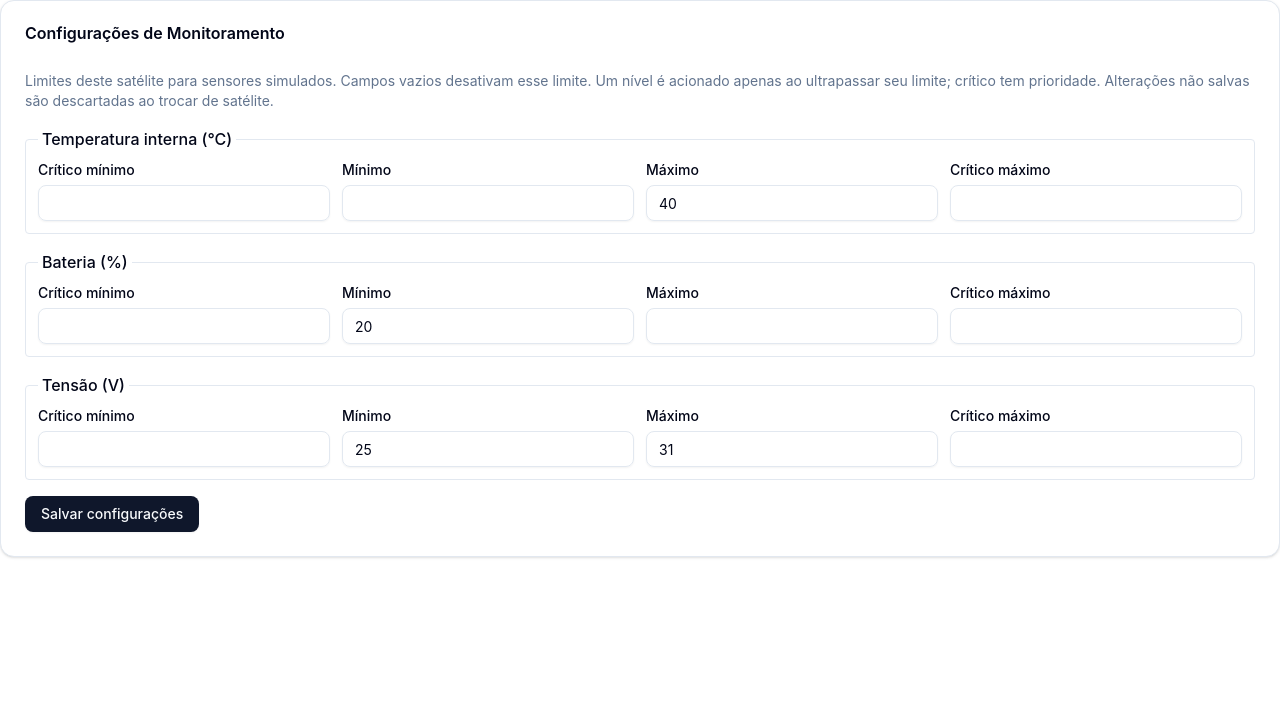
Scenario: US11 validation › reports a failed save and does not mark edited values as persisted
The image size is (1280, 720).
Replace the text in the 1st number field labelled "Máximo" with "75": (792, 203) [646, 185, 938, 221]
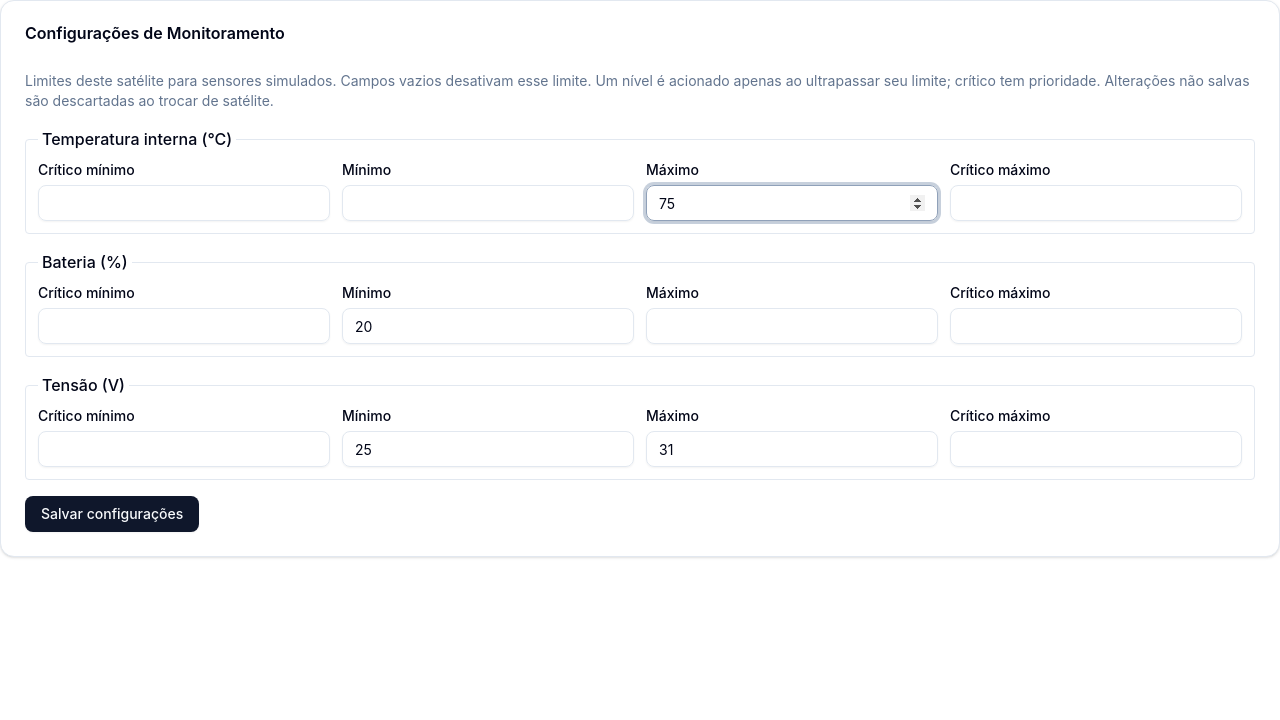
Click the button "Salvar configurações": (112, 514) [25, 496, 199, 532]
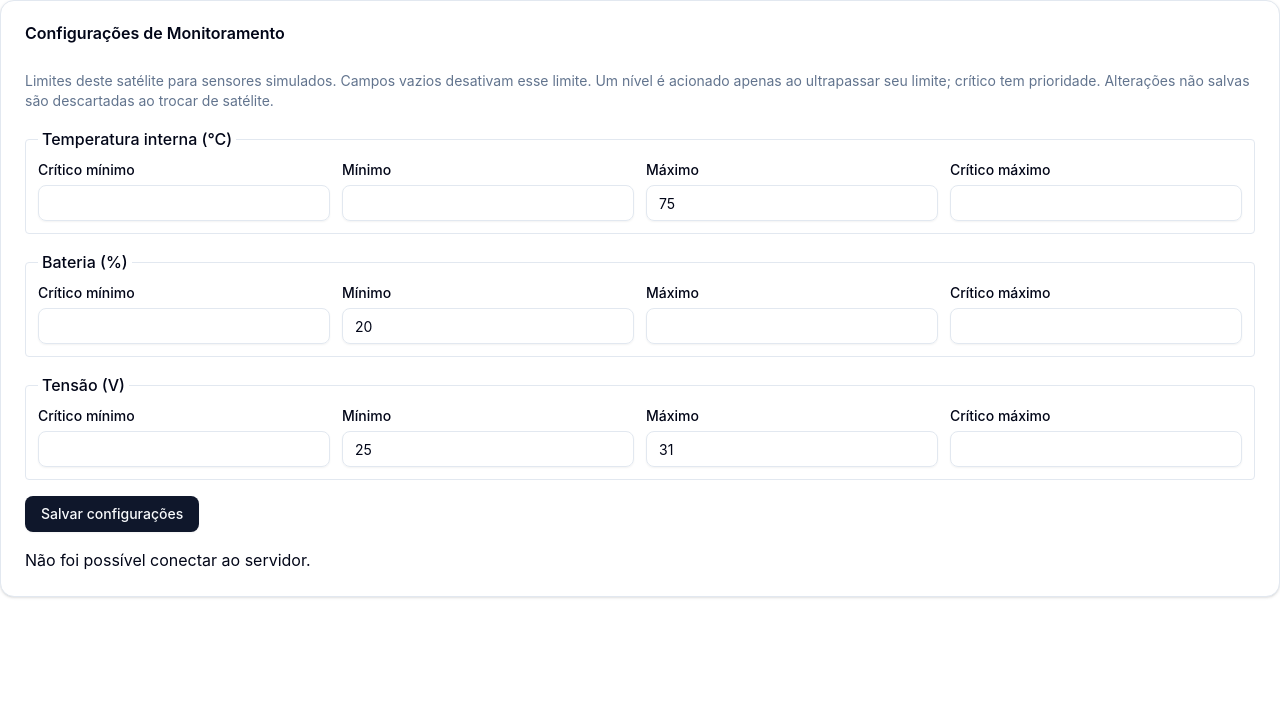
Check: the message shows "Não foi possível conectar", box [25, 550, 311, 570]
